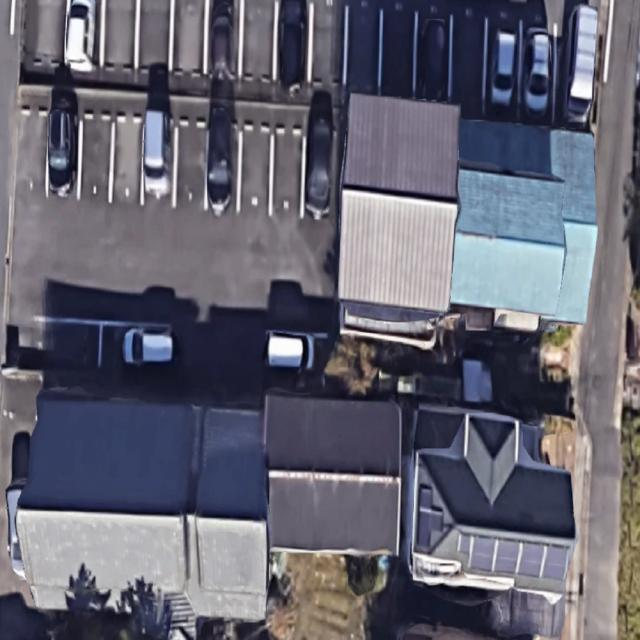Batiment: (16, 394, 268, 634), (411, 406, 575, 593), (450, 120, 598, 323), (339, 94, 460, 312), (265, 394, 401, 554)
